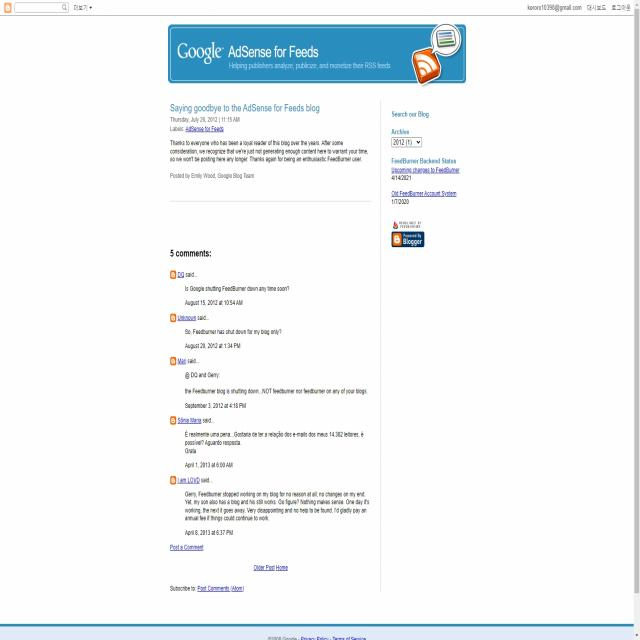search: (12, 0, 71, 14)
side-panel: (383, 100, 466, 254)
